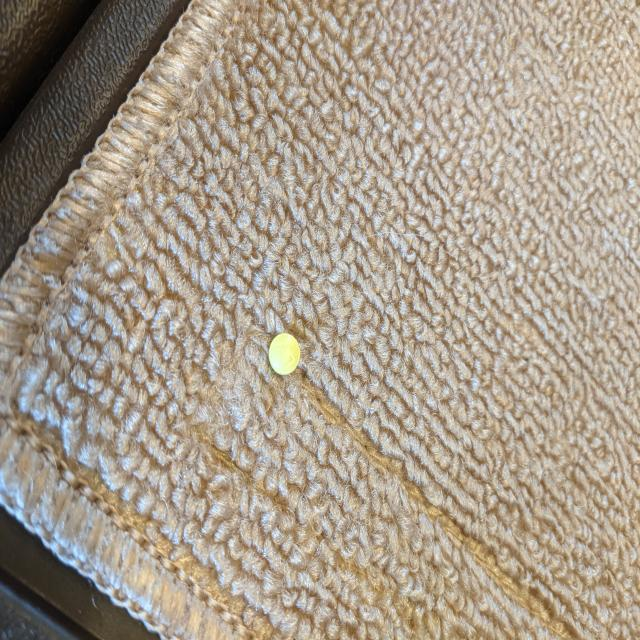non-organic waste: (267, 332, 302, 376)
